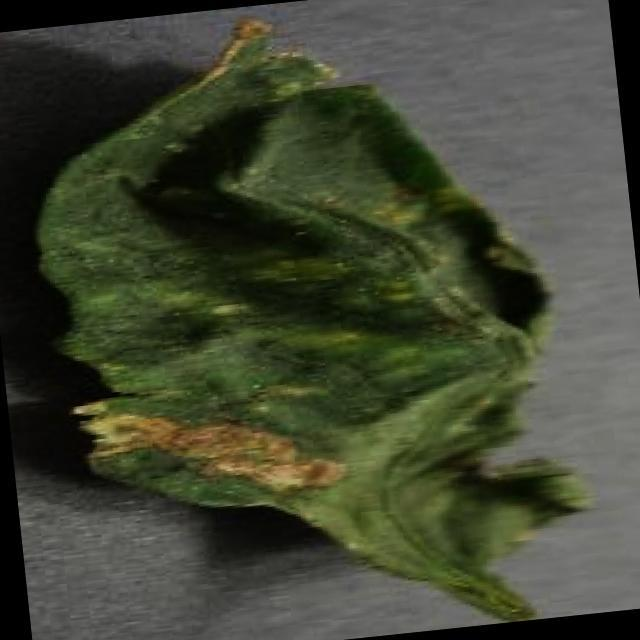Tomato bacterial spot leaf: (0, 0, 609, 640)
